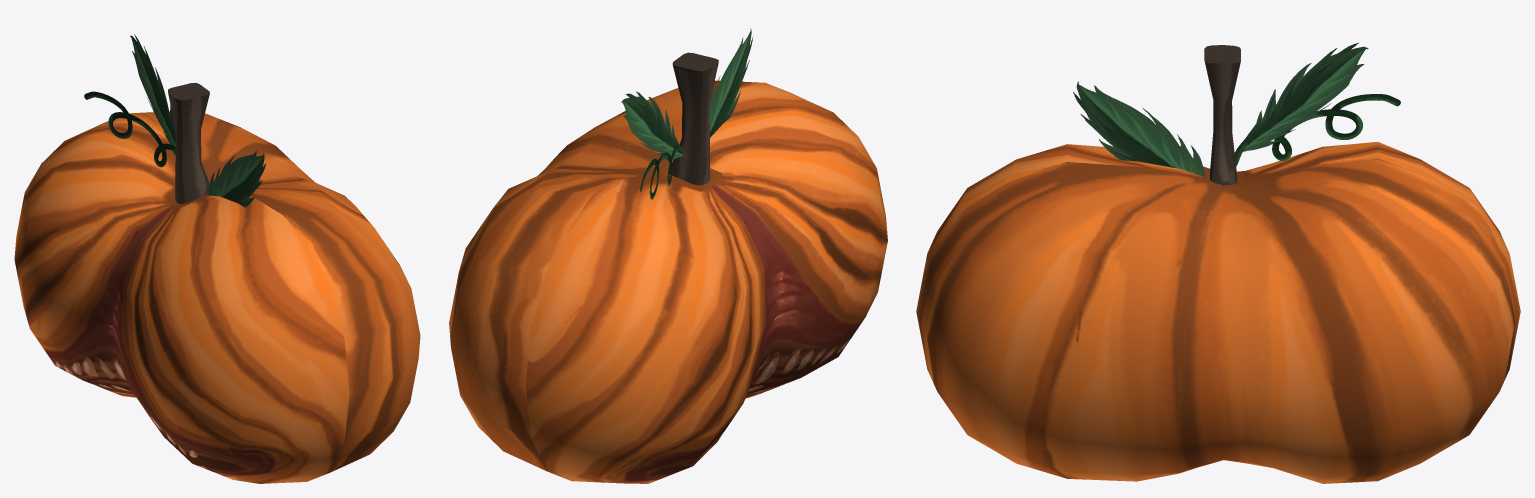
Rendered from PutridPumpkin.fbx.
3 renders of one model, left to right at view 1: azimuth 30°, elevation 25°; view 2: azimuth 150°, elevation 25°; view 3: azimuth 270°, elevation 25°, orthographic. The views are drawn at different scales.
Parts seen in each view (by area): view 1: PumpkinBod, Pleaf1, Pleaf2, Swirly; view 2: PumpkinBod, Pleaf2, Pleaf1, Swirly; view 3: PumpkinBod, Pleaf1, Pleaf2, Swirly.
Part boxes in pixels (<box>): PumpkinBod: <box>14,82,420,483</box>; Pleaf1: <box>208,150,265,207</box>; Pleaf2: <box>130,34,175,155</box>; Swirly: <box>84,91,175,167</box>; PumpkinBod: <box>449,52,887,483</box>; Pleaf2: <box>621,91,684,159</box>; Pleaf1: <box>709,28,753,137</box>; Swirly: <box>640,145,681,199</box>; PumpkinBod: <box>916,45,1520,483</box>; Pleaf1: <box>1073,81,1205,176</box>; Pleaf2: <box>1234,42,1368,153</box>; Swirly: <box>1234,94,1400,166</box>.
Bounding box in the file's own units: 52.93 × 71.51 × 89.7.
